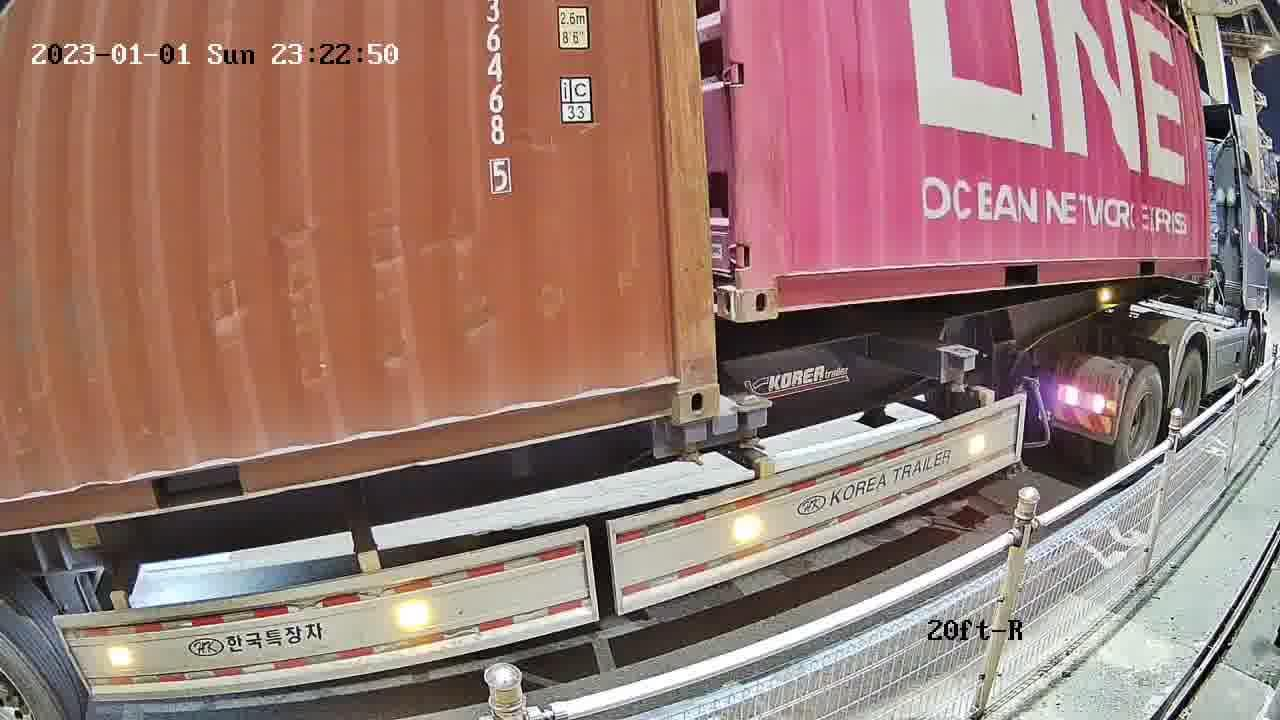Cone: (733, 394, 771, 458), (672, 421, 710, 470)
Hole_L: (740, 244, 808, 323)
Hole_R: (638, 349, 719, 425)
Tire: (1117, 367, 1164, 473), (1174, 350, 1204, 440)
